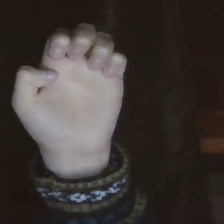E: (5, 17, 135, 160)
